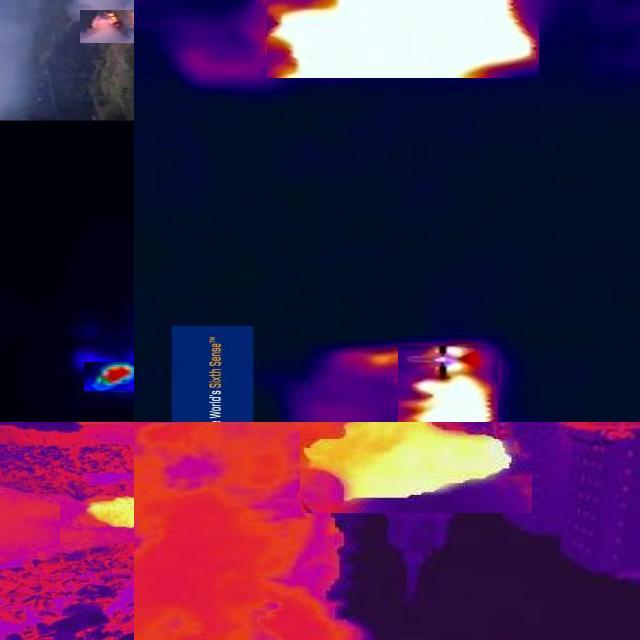fire: (266, 1, 538, 78), (295, 426, 527, 516), (399, 346, 499, 423), (84, 488, 136, 537), (85, 362, 135, 391)
